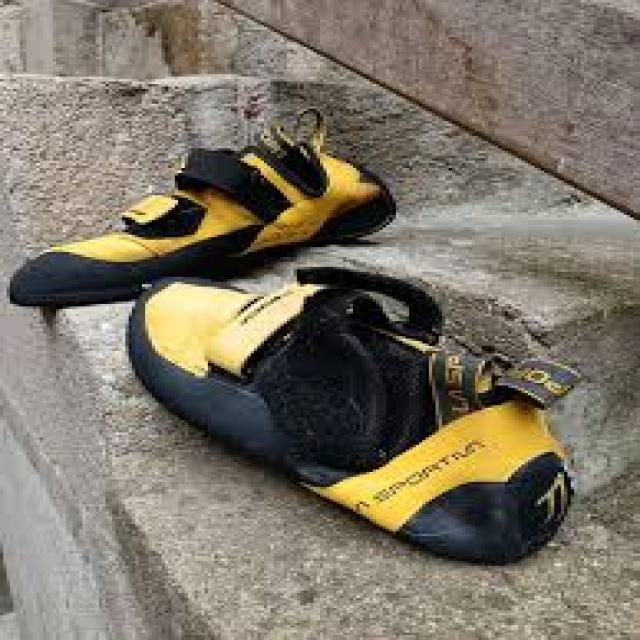climbing-shoes: (128, 280, 579, 564), (9, 104, 400, 309)
